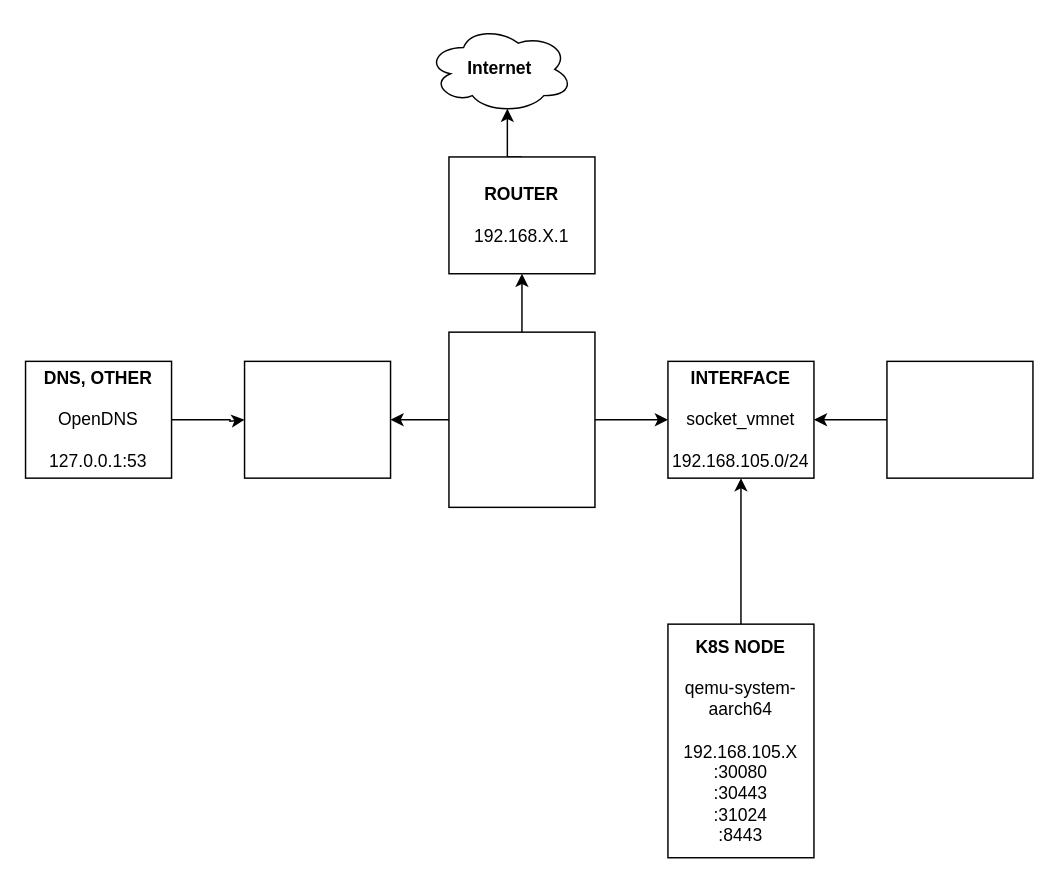
The diagram is 1059 pixels wide and 883 high, and some of its shapes have lost their labels. Here are the shapes that lost their labels. From the top down, the centre of each, then its label:
At point (317, 419): "INTERFACE loopback 127.0.0.1".
At point (521, 419): "HOST macOS M1 127.0.0.1 192.168.X.Y 192.168.105.1".
At point (959, 419): "DNS DNSMasq 192.168.105.1:53".
